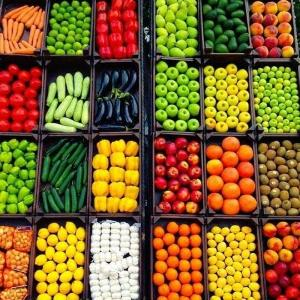apple: (152, 135, 206, 217), (151, 58, 203, 130), (204, 58, 252, 130), (252, 60, 300, 132)
avocado: (204, 0, 252, 54)
bell_pepper: (89, 132, 142, 214), (0, 136, 40, 215), (94, 0, 142, 56)
carrot: (0, 0, 46, 56)
cucumber: (38, 134, 90, 212)
eggplant: (92, 60, 144, 130)
garlic: (88, 215, 140, 300)
kiwi: (256, 135, 300, 217)
lemon: (30, 216, 88, 300)
lime: (48, 0, 92, 54)
orange: (150, 220, 204, 300), (205, 136, 255, 216)
peach: (258, 220, 300, 300), (253, 0, 295, 54)
pear: (155, 1, 203, 56)
tomato: (0, 57, 42, 132)
zucchini: (45, 61, 91, 133)
